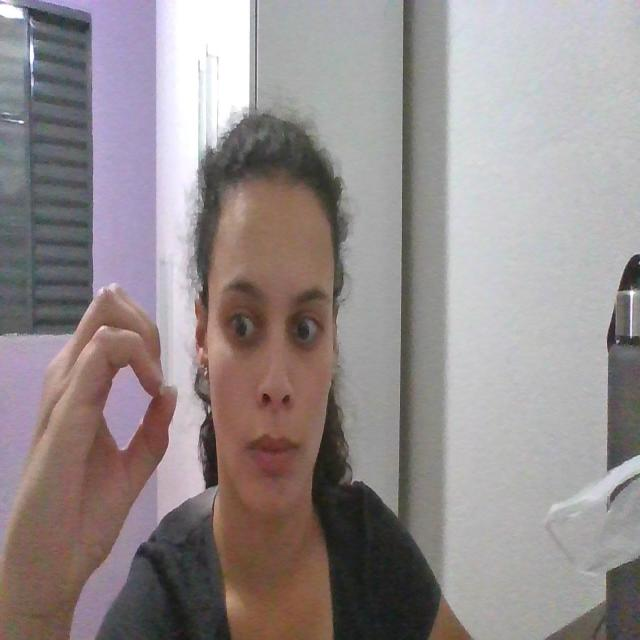O: (8, 274, 182, 594)
